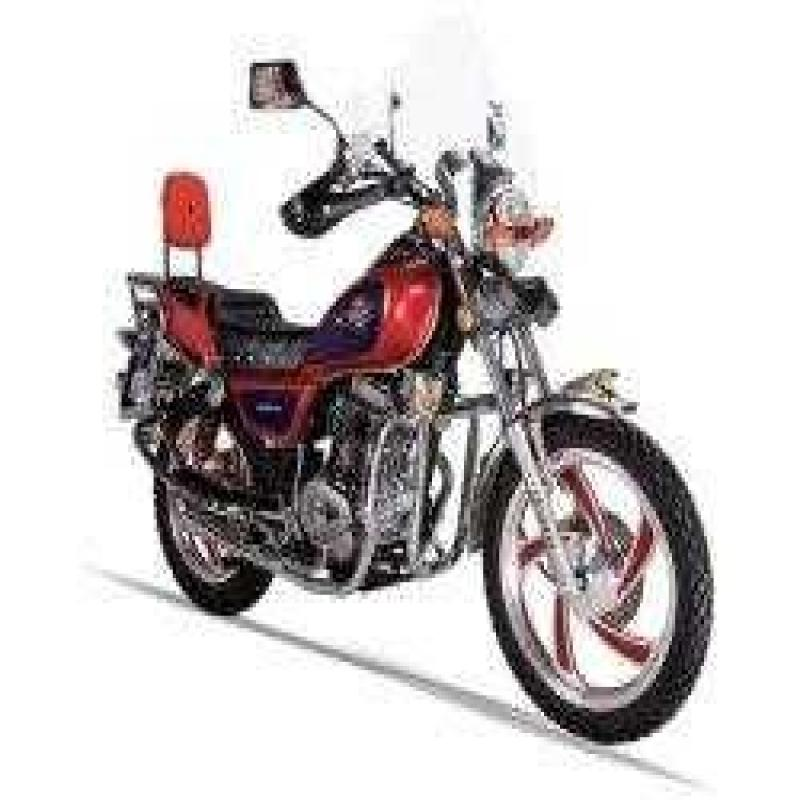bike: (112, 36, 730, 736)
